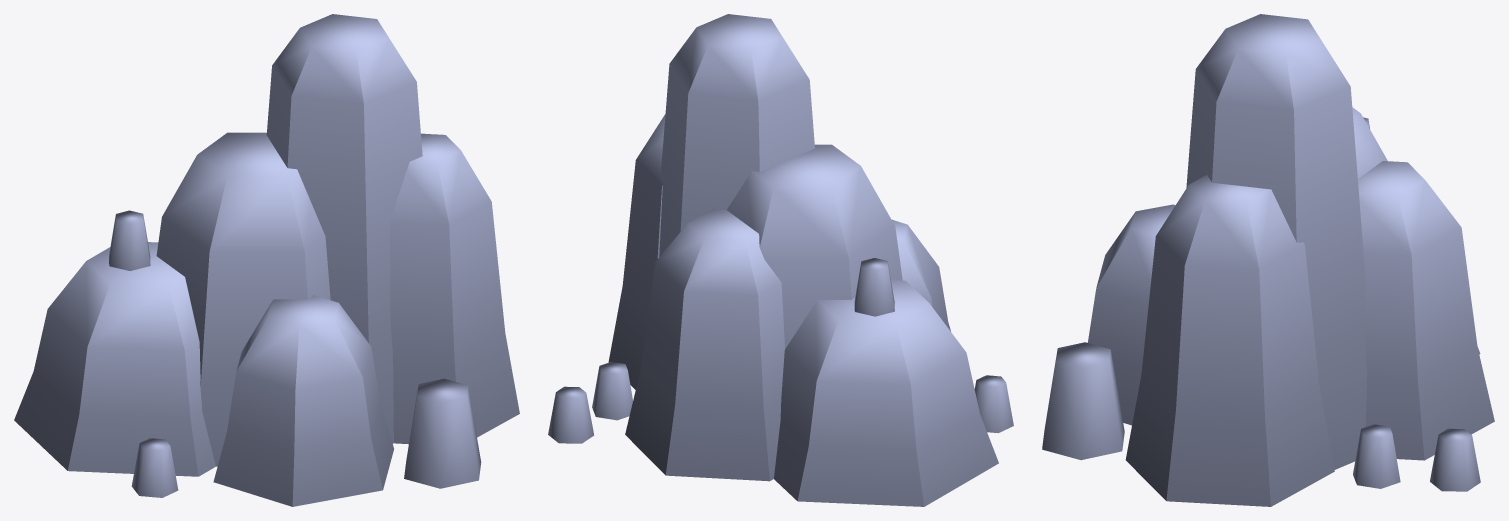
The model's file is rocks.002_lev2.glb.
3 renders of one model, left to right at view 1: azimuth 30°, elevation 25°; view 2: azimuth 150°, elevation 25°; view 3: azimuth 270°, elevation 25°, orthographic. The views are drawn at different scales.
Visible parts, largest first — view 1: rocks.002_lev2; view 2: rocks.002_lev2; view 3: rocks.002_lev2.
Boxes of the visible parts, x1=… form: rocks.002_lev2: x1=14, y1=14, x2=519, y2=506; rocks.002_lev2: x1=548, y1=14, x2=1013, y2=506; rocks.002_lev2: x1=1042, y1=14, x2=1494, y2=506.
Bounding box in the file's own units: 8.61 × 7.55 × 7.72.
Materials: 1 (1 with a texture image).
